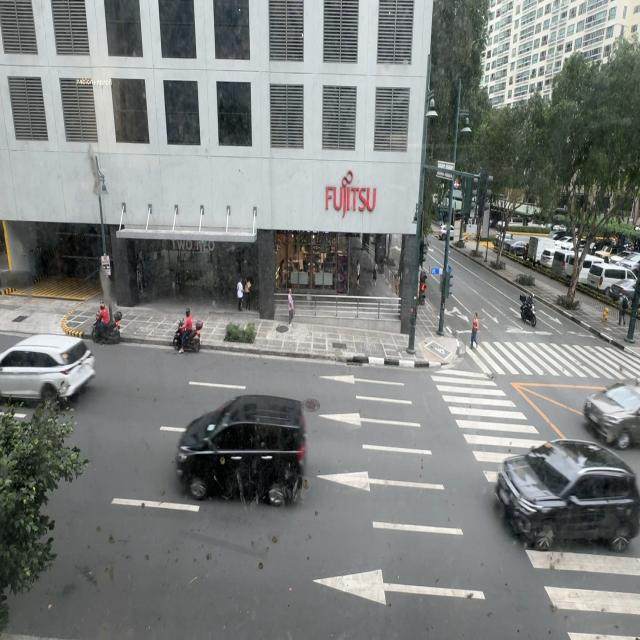crossing: (471, 312, 484, 350)
